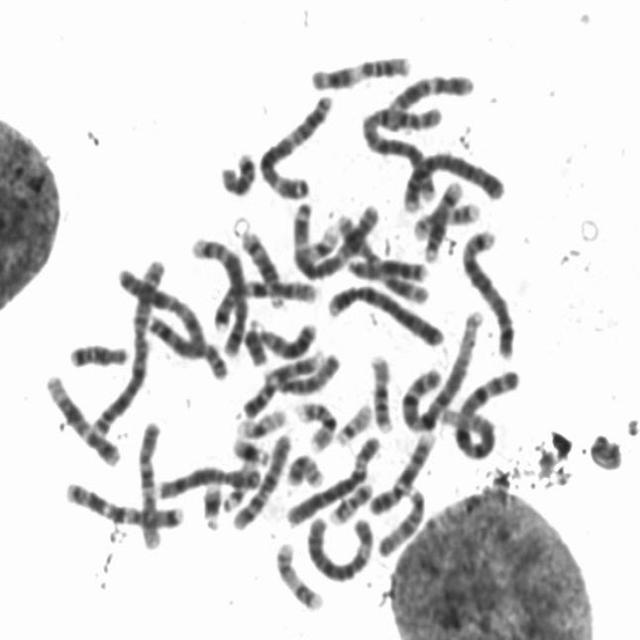A1: (398, 303, 486, 433), (446, 362, 522, 462)
A2: (86, 253, 168, 437), (358, 98, 446, 205)
A3: (252, 87, 336, 201), (288, 195, 382, 282)
B4: (322, 278, 447, 350), (398, 146, 508, 212)
B5: (458, 223, 519, 360), (186, 230, 249, 359)
C10: (226, 427, 294, 531), (134, 413, 164, 552)
C11: (330, 208, 430, 304), (306, 48, 414, 92)
C12: (41, 368, 122, 468), (384, 67, 476, 115)
C6: (282, 429, 383, 529), (303, 508, 378, 585)
C7: (61, 476, 188, 531), (207, 273, 321, 332)
C8: (142, 309, 230, 382), (152, 458, 264, 501)
C9: (363, 426, 439, 516), (239, 344, 329, 420)
D13: (252, 317, 319, 360), (344, 251, 431, 284)
D14: (236, 224, 286, 310), (419, 175, 465, 264)
D15: (373, 480, 429, 559), (273, 348, 342, 396)
E16: (291, 394, 340, 452), (367, 348, 396, 434)
E17: (271, 537, 326, 612), (407, 194, 483, 242)
E18: (215, 146, 259, 198), (66, 336, 133, 370)
F19: (296, 216, 342, 268), (232, 402, 289, 439)
F20: (324, 476, 374, 526), (282, 448, 326, 489)
G21: (228, 430, 272, 468), (198, 480, 224, 532)
G22: (219, 458, 261, 514), (332, 397, 374, 447)
X: (114, 262, 214, 368)
Y: (240, 314, 269, 367)
